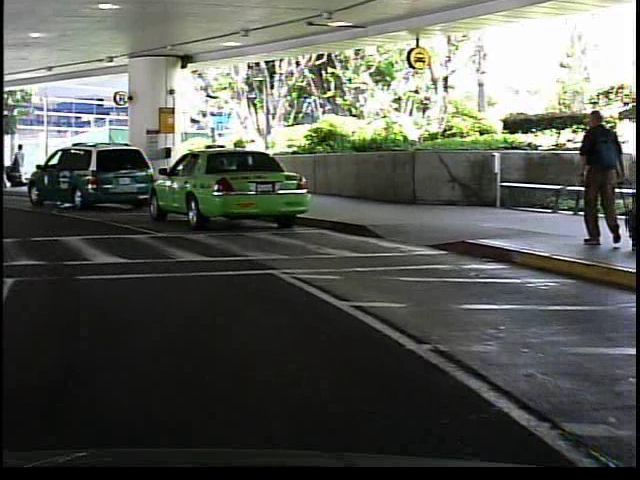person: (562, 102, 627, 258)
